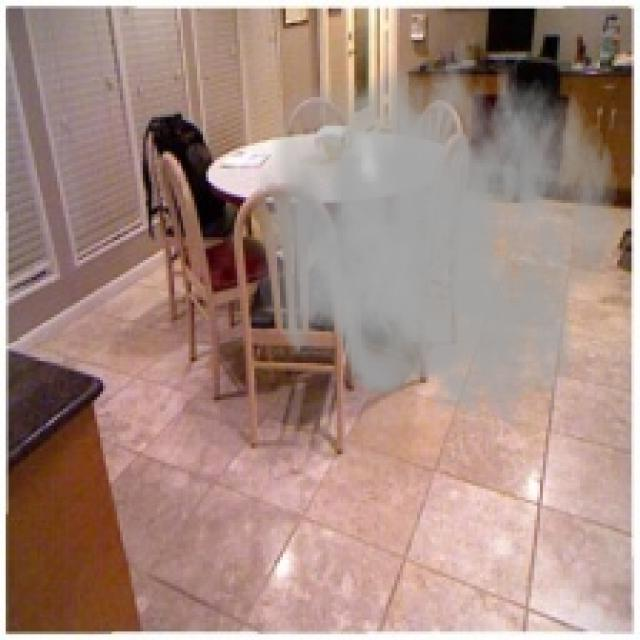smoke: (251, 14, 620, 432)
